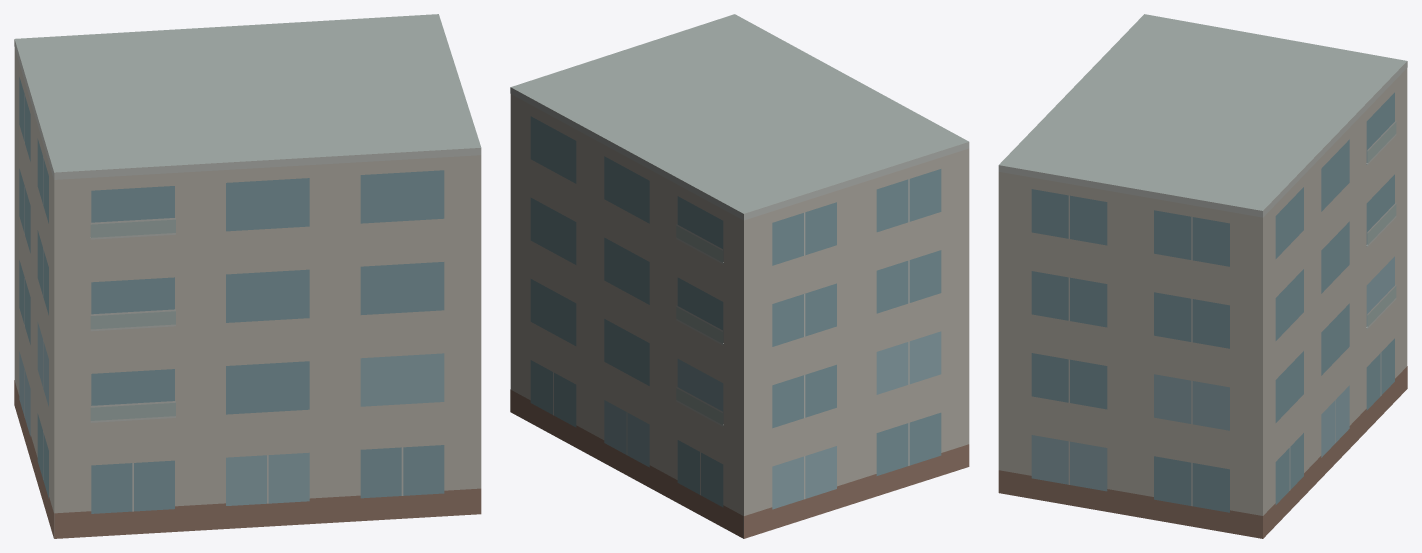
The model's file is survey-upis-32491788.glb.
3 views of the same model, side by side, from view 1: azimuth 30°, elevation 25°; view 2: azimuth 150°, elevation 25°; view 3: azimuth 270°, elevation 25° (orthographic). The views are drawn at different scales.
Visible parts, largest first — view 1: survey-upis-32491788.tmp; view 2: survey-upis-32491788.tmp; view 3: survey-upis-32491788.tmp.
Boxes of the visible parts, bbox=[...] form: survey-upis-32491788.tmp: bbox=[14, 14, 481, 538]; survey-upis-32491788.tmp: bbox=[510, 14, 969, 538]; survey-upis-32491788.tmp: bbox=[998, 14, 1407, 538].
Size of the model in its own units: 15.47 by 12 by 13.57.
